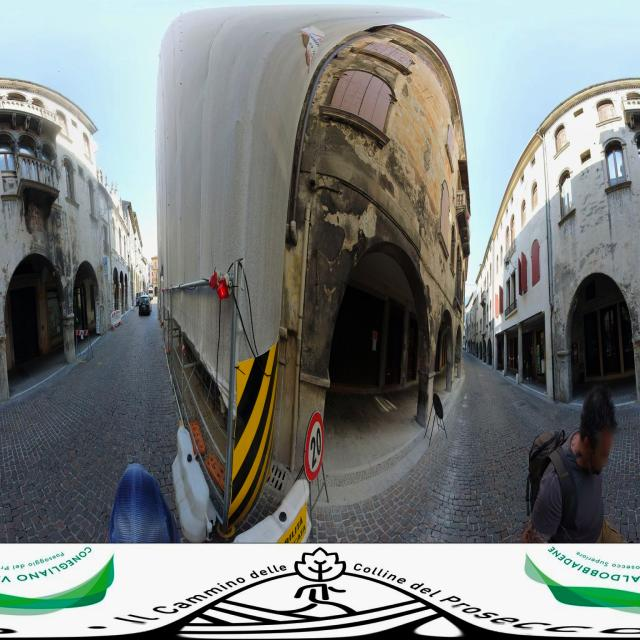car: (138, 292, 150, 317), (148, 286, 153, 299)
